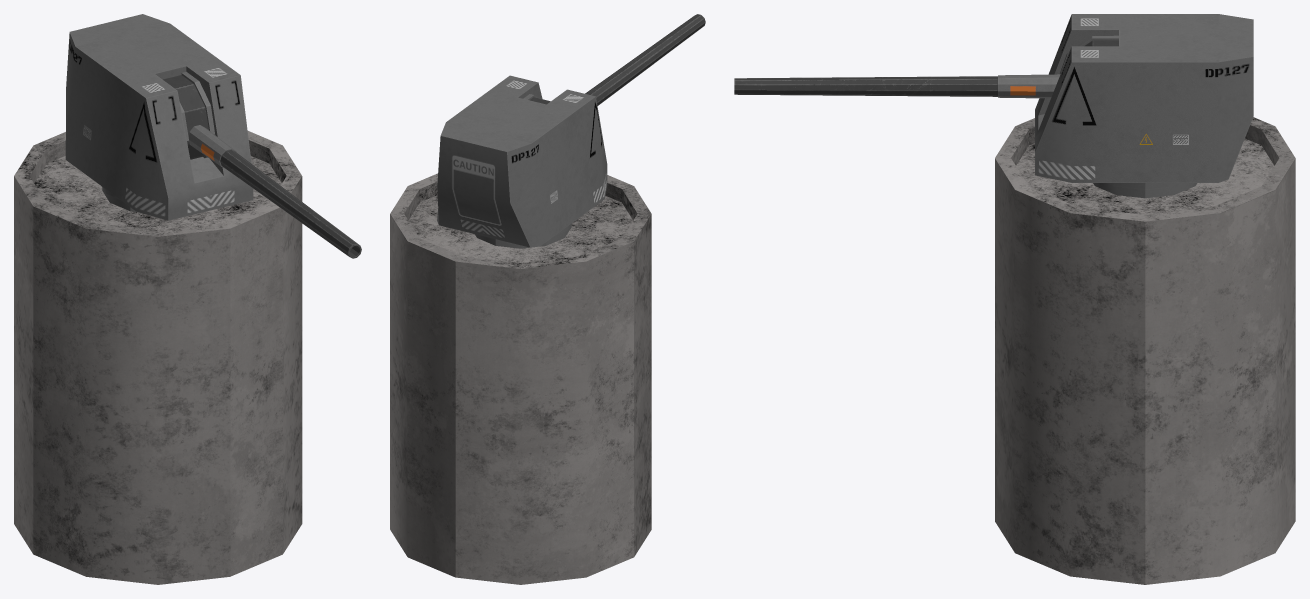
Rendered from Gunmaggedon DP127.fbx.
3 renders of one model, left to right at view 1: azimuth 30°, elevation 25°; view 2: azimuth 150°, elevation 25°; view 3: azimuth 270°, elevation 25°, orthographic. The views are drawn at different scales.
Parts seen in each view (by area): view 1: base, traverse, barrel, gun; view 2: base, traverse, barrel; view 3: base, traverse, barrel, gun.
Boxes of the visible parts, <box> form: base: <box>14,131,302,584</box>; traverse: <box>65,14,253,220</box>; barrel: <box>220,150,361,258</box>; gun: <box>163,71,236,168</box>; base: <box>390,173,651,584</box>; traverse: <box>437,75,607,248</box>; barrel: <box>585,14,705,105</box>; base: <box>995,117,1295,584</box>; traverse: <box>1035,14,1253,198</box>; barrel: <box>734,76,997,96</box>; gun: <box>998,35,1118,98</box>.
Bounding box in the file's own units: 600 × 1064 × 1120.
Materials: 2 (2 with a texture image).
